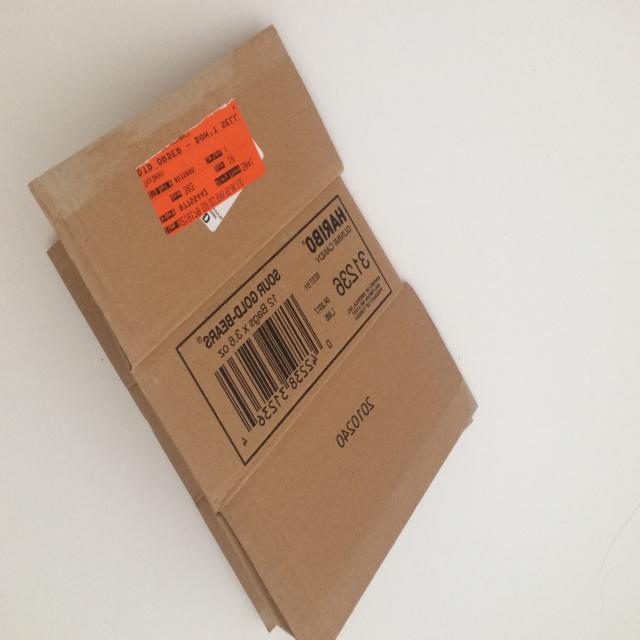cardboard: (29, 22, 479, 640)
